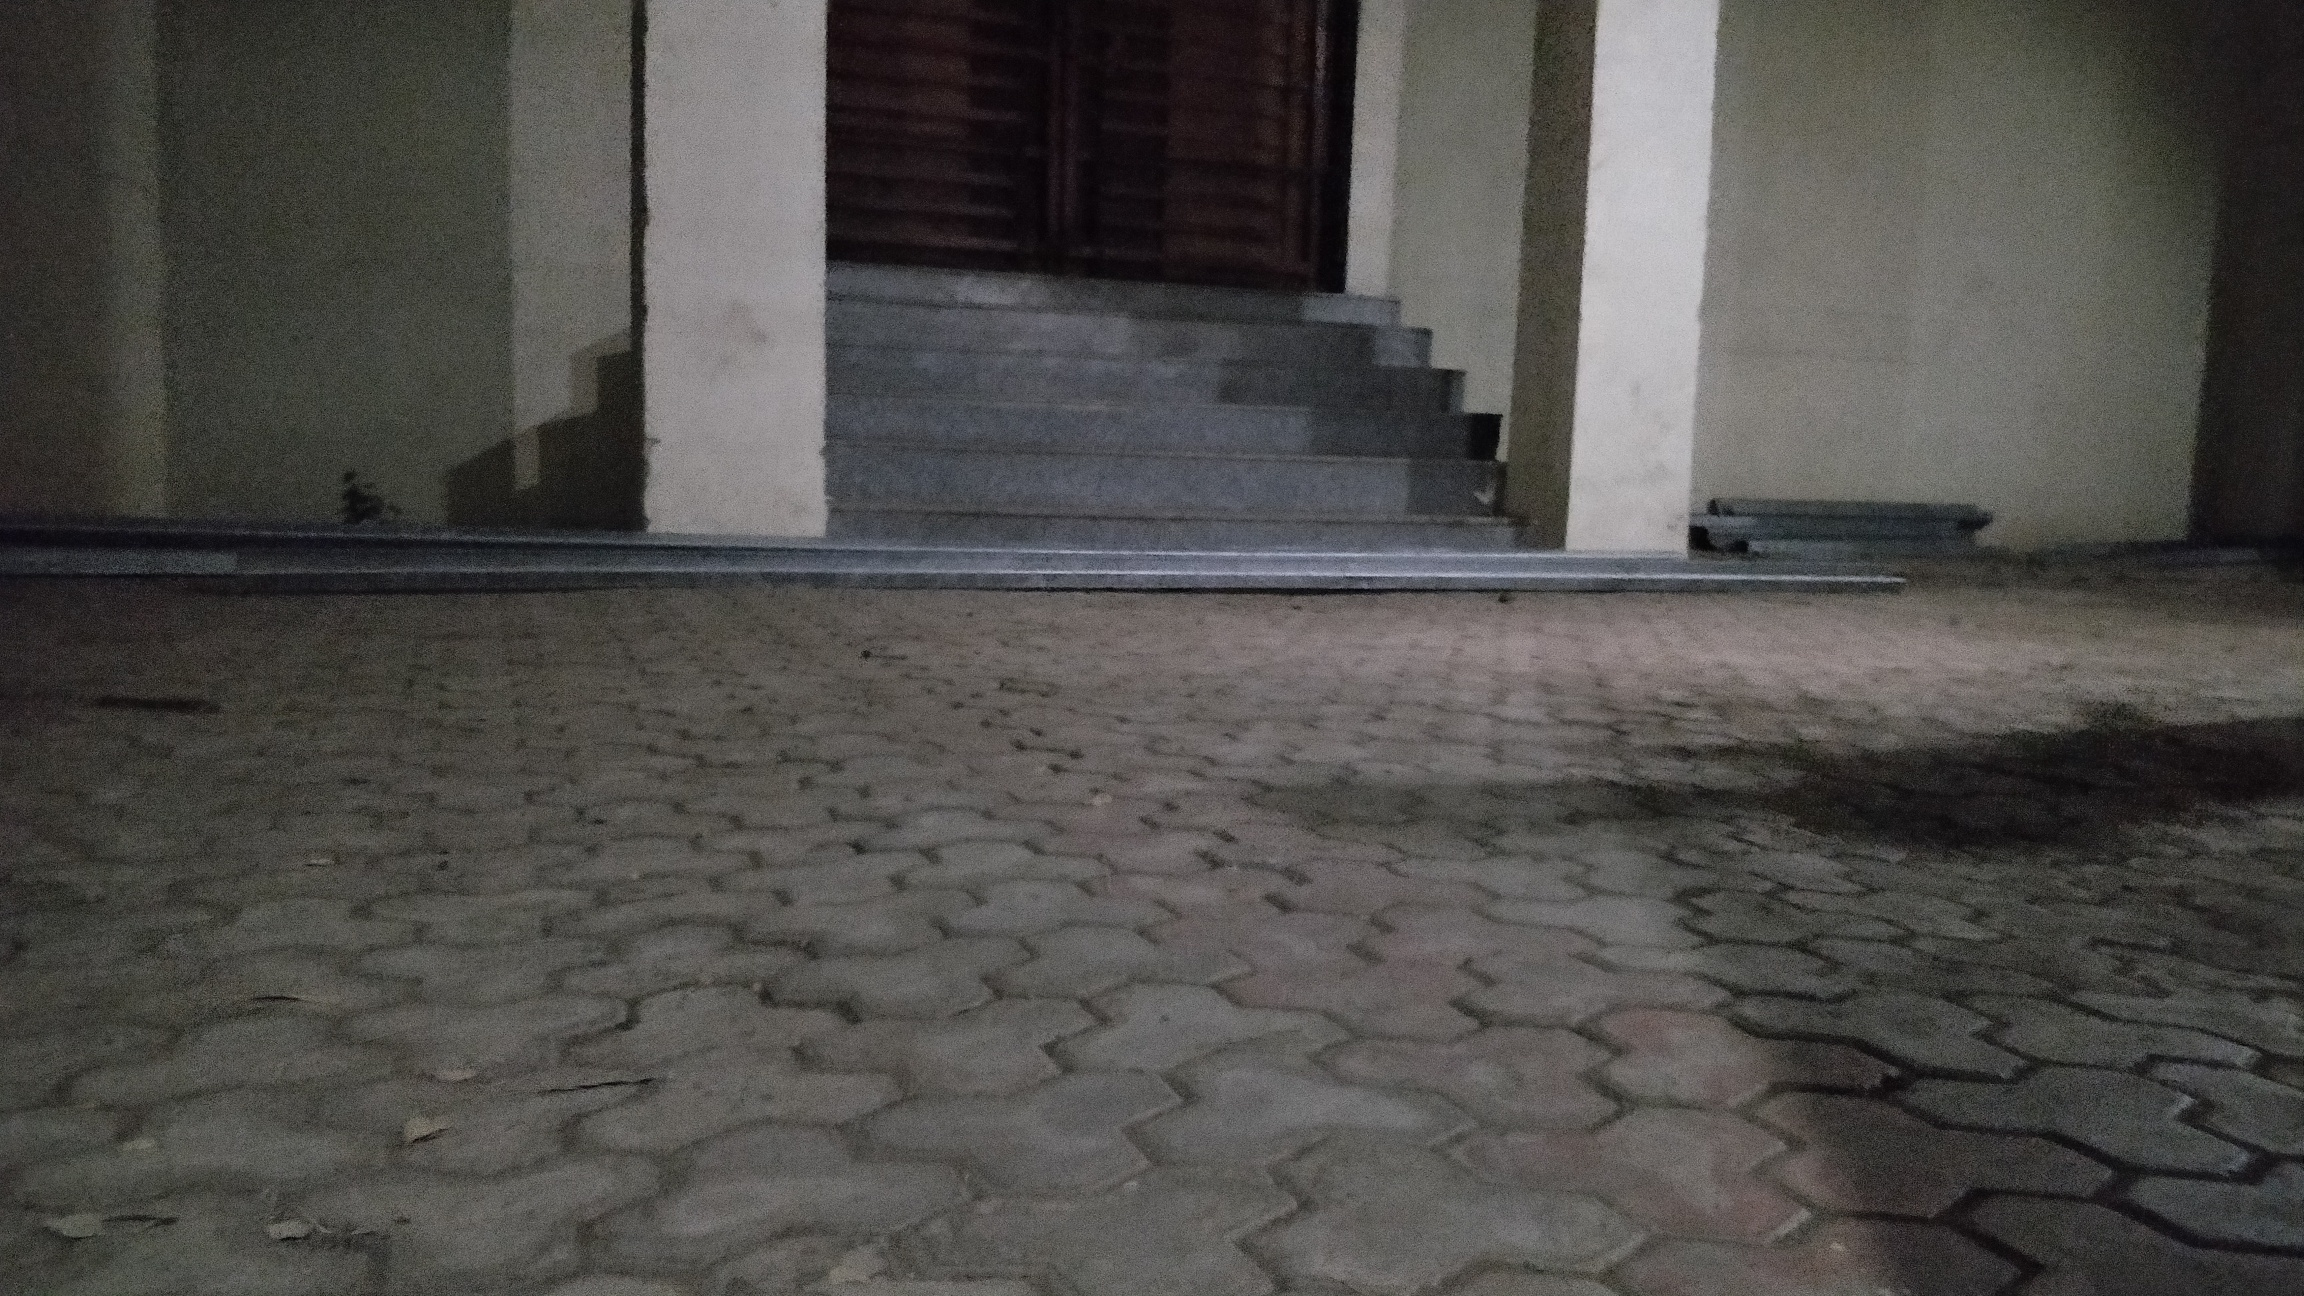stairs_up: (832, 253, 1508, 552)
